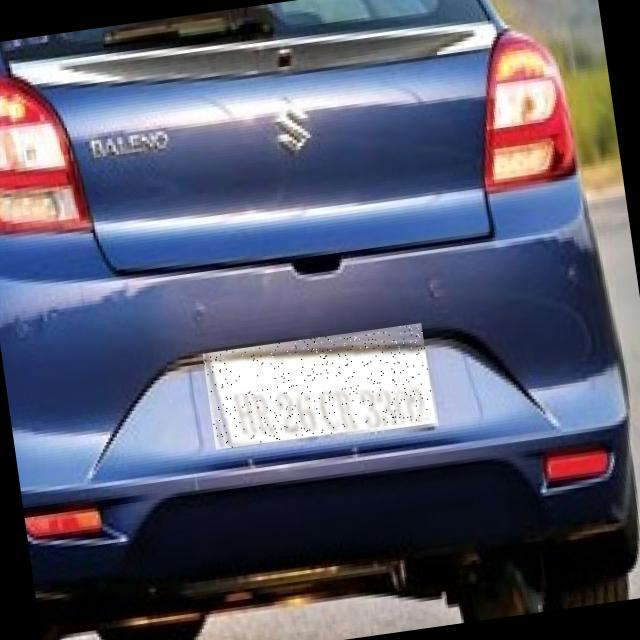Plate: (204, 324, 436, 451)
